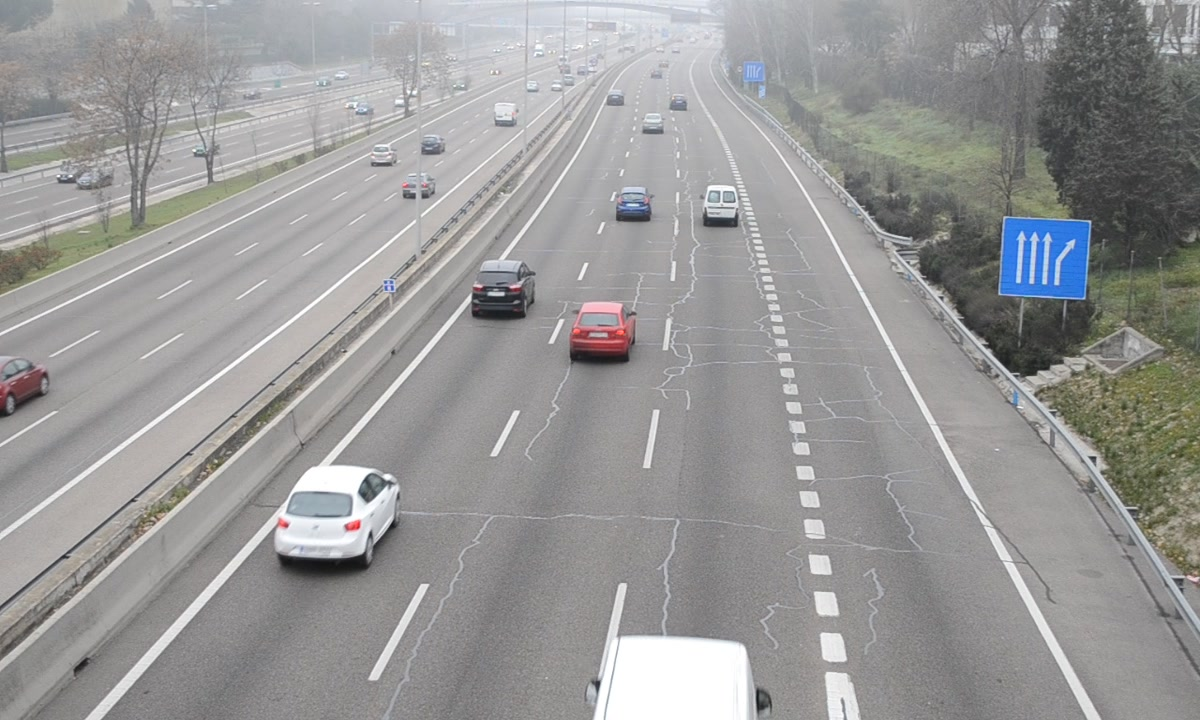car: (272, 467, 402, 559), (570, 302, 634, 359), (470, 261, 533, 315), (616, 187, 651, 220), (642, 112, 665, 134)
van: (703, 184, 740, 224)
